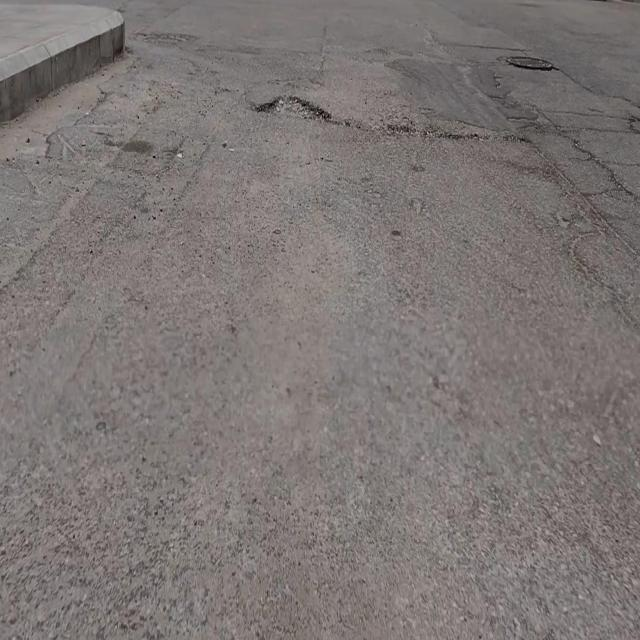Potholes: (257, 94, 331, 123)
